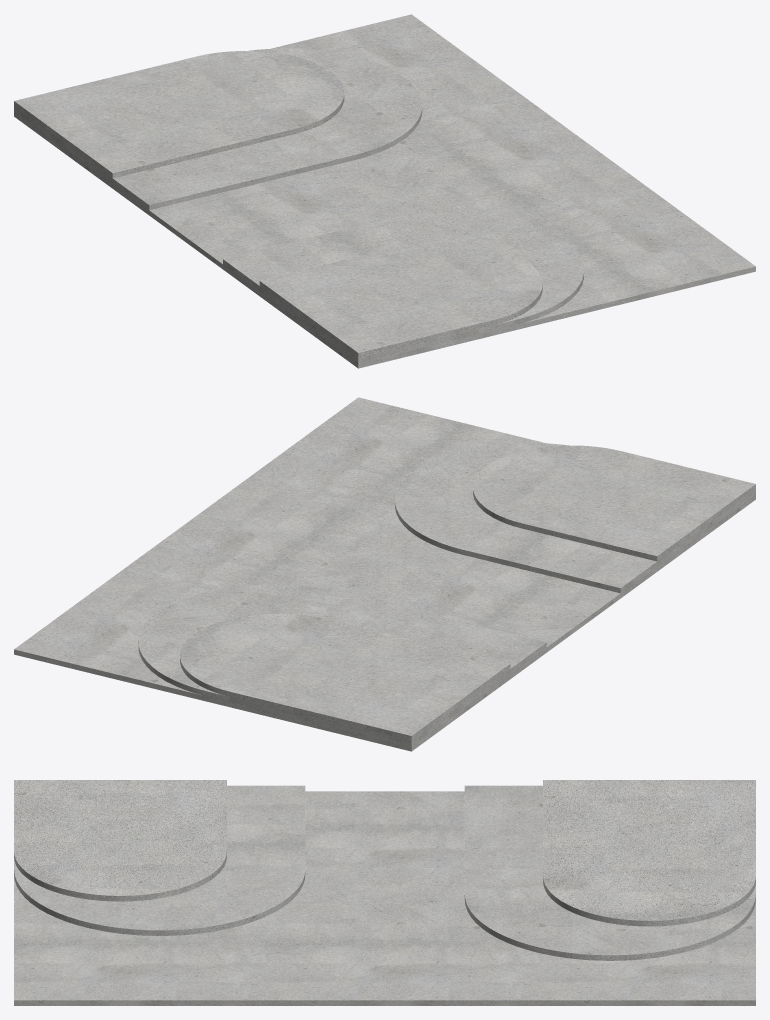
The model's file is A_Renewal_Platform.glb.
The picture shows the model from 3 angles, top to bottom: view 1: azimuth 30°, elevation 25°; view 2: azimuth 150°, elevation 25°; view 3: azimuth 270°, elevation 25°; orthographic projection. The views are drawn at different scales.
Visible parts, largest first — view 1: Base.001, Plane.003, Plane.005; view 2: Base.001, Plane.003, Plane.005; view 3: Base.001, Plane.003, Plane.005.
Part boxes in pixels (<box>): Base.001: <box>14,14,755,368</box>; Plane.003: <box>14,51,542,358</box>; Plane.005: <box>14,48,583,363</box>; Base.001: <box>14,397,755,751</box>; Plane.003: <box>180,445,755,741</box>; Plane.005: <box>138,443,755,746</box>; Base.001: <box>14,791,755,1005</box>; Plane.003: <box>14,780,755,926</box>; Plane.005: <box>14,785,755,960</box>.
Size of the model in its own units: 4 by 0.1499 by 6.
1 material, 1 textured.
